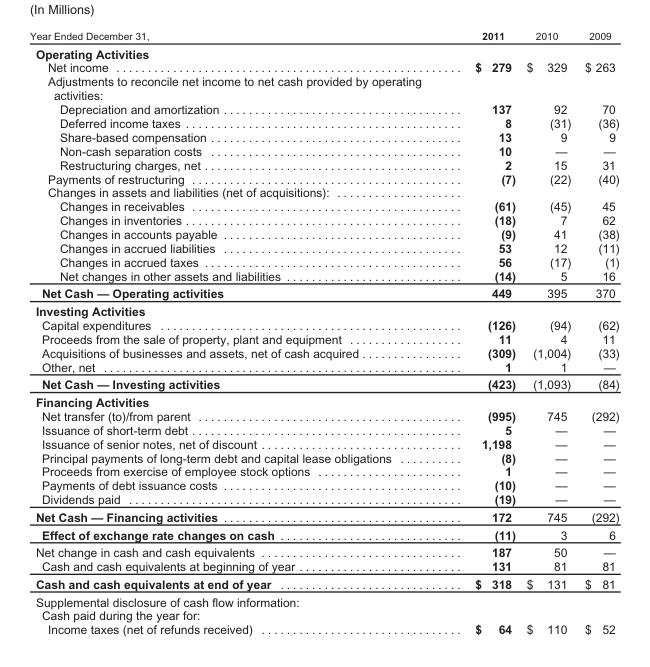table: (28, 29, 618, 635)
table column: (28, 29, 432, 635), (432, 29, 520, 635), (520, 29, 577, 635), (577, 29, 618, 635)
table column header: (28, 29, 618, 43)
table projected row header: (28, 74, 618, 101), (28, 43, 618, 60), (28, 301, 618, 317), (28, 392, 618, 408), (28, 592, 618, 608), (28, 185, 618, 199), (28, 608, 618, 621)
table row: (28, 74, 618, 101), (28, 507, 618, 525), (28, 525, 618, 543), (28, 574, 618, 592), (28, 43, 618, 60), (28, 284, 618, 301), (28, 375, 618, 392), (28, 268, 618, 284), (28, 301, 618, 317), (28, 359, 618, 375), (28, 392, 618, 408), (28, 491, 618, 507), (28, 558, 618, 574), (28, 592, 618, 608), (28, 543, 618, 558), (28, 29, 618, 43), (28, 60, 618, 74), (28, 101, 618, 115), (28, 115, 618, 129), (28, 129, 618, 143), (28, 143, 618, 157), (28, 157, 618, 171), (28, 171, 618, 185), (28, 185, 618, 199), (28, 212, 618, 226), (28, 226, 618, 240), (28, 240, 618, 254), (28, 254, 618, 268), (28, 317, 618, 331), (28, 331, 618, 345), (28, 345, 618, 359), (28, 408, 618, 422), (28, 422, 618, 436), (28, 436, 618, 450), (28, 450, 618, 464), (28, 464, 618, 478), (28, 621, 618, 635), (28, 199, 618, 212), (28, 478, 618, 491), (28, 608, 618, 621)
